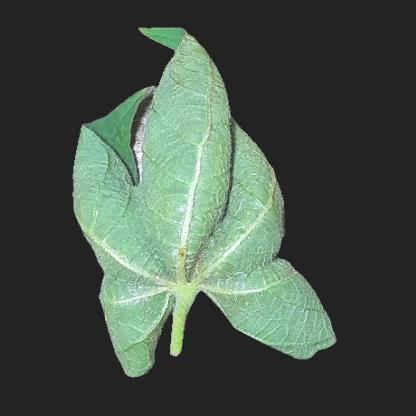curl_stage2: (106, 178, 216, 282), (154, 77, 228, 172), (238, 269, 308, 343), (220, 174, 272, 256), (111, 279, 160, 351)
